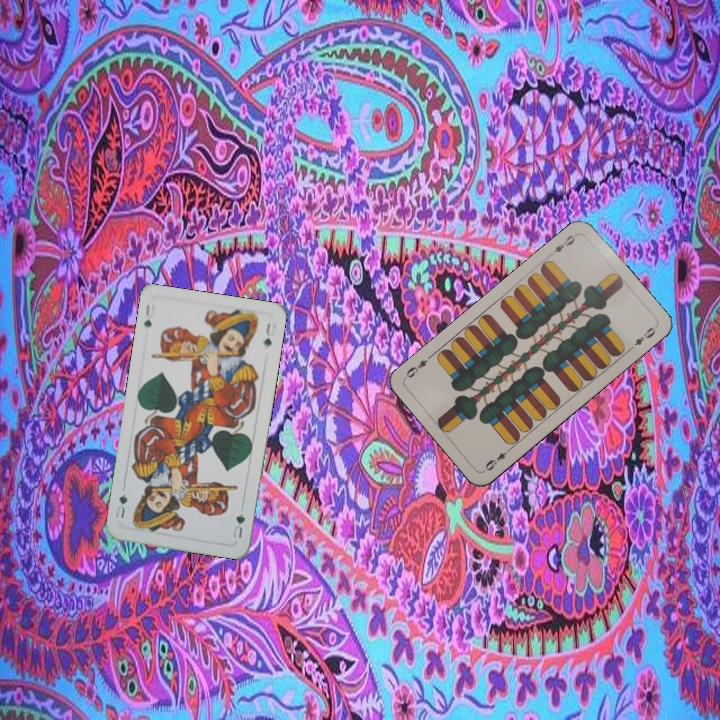E9: (545, 229, 580, 259), (480, 444, 514, 474)
GU: (229, 503, 248, 540), (140, 300, 158, 330)
